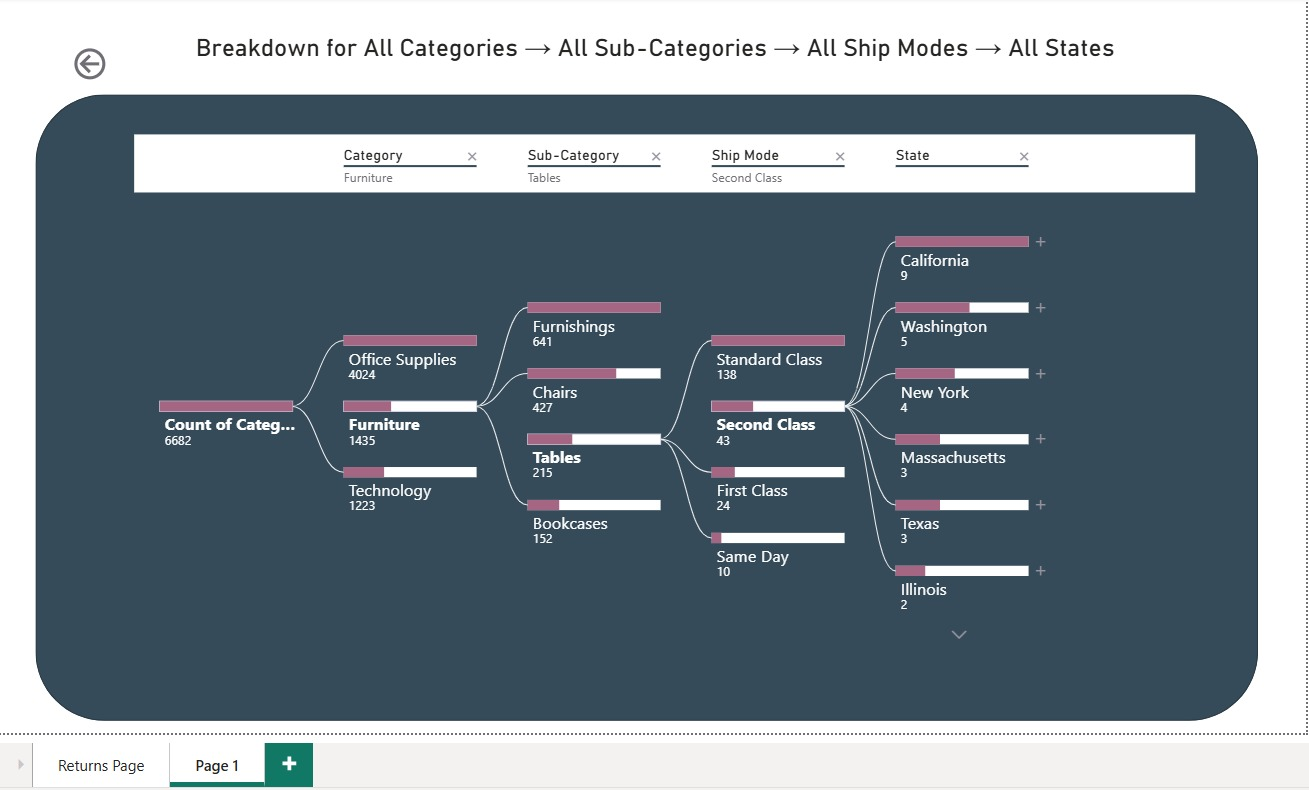

What the dashboard file says about the page in this screenshot:
{"tool":"powerbi","page":{"name":"Page 1","canvas":[1280,720],"ordinal":1},"visuals":[{"type":"shape","box":[36.7,95.4,1195.9,612.6],"z":0},{"type":"decompositionTreeVisual","fields":{"ExplainBy":["Orders.Category","Orders.Sub-Category","Orders.Ship Mode","Orders.State","Orders.Country"],"Analyze":["CountNonNull(Orders.Category)"]},"box":[128.4,129.6,1048,524.6],"z":1000},{"type":"card","fields":{"Values":["Bridge_OrderID.Dynamic Tree Title"]},"box":[140.6,20.8,1005.2,56.3],"z":2000},{"type":"actionButton","box":[69.7,45.2,100.3,40.4],"z":3000}]}

Visuals, with their boxes on the page's 1280x720 design canvas (x1, y1, x2, y2). These are canvas units, not pixel positions in the 1309x790 screenshot, which may show the page scaled, cropped or inside an application window:
shape: [left=37, top=95, right=1233, bottom=708]
decompositionTreeVisual - Orders.Category x Orders.Sub-Category: [left=128, top=130, right=1176, bottom=654]
card - Bridge_OrderID.Dynamic Tree Title: [left=141, top=21, right=1146, bottom=77]
actionButton: [left=70, top=45, right=170, bottom=86]
